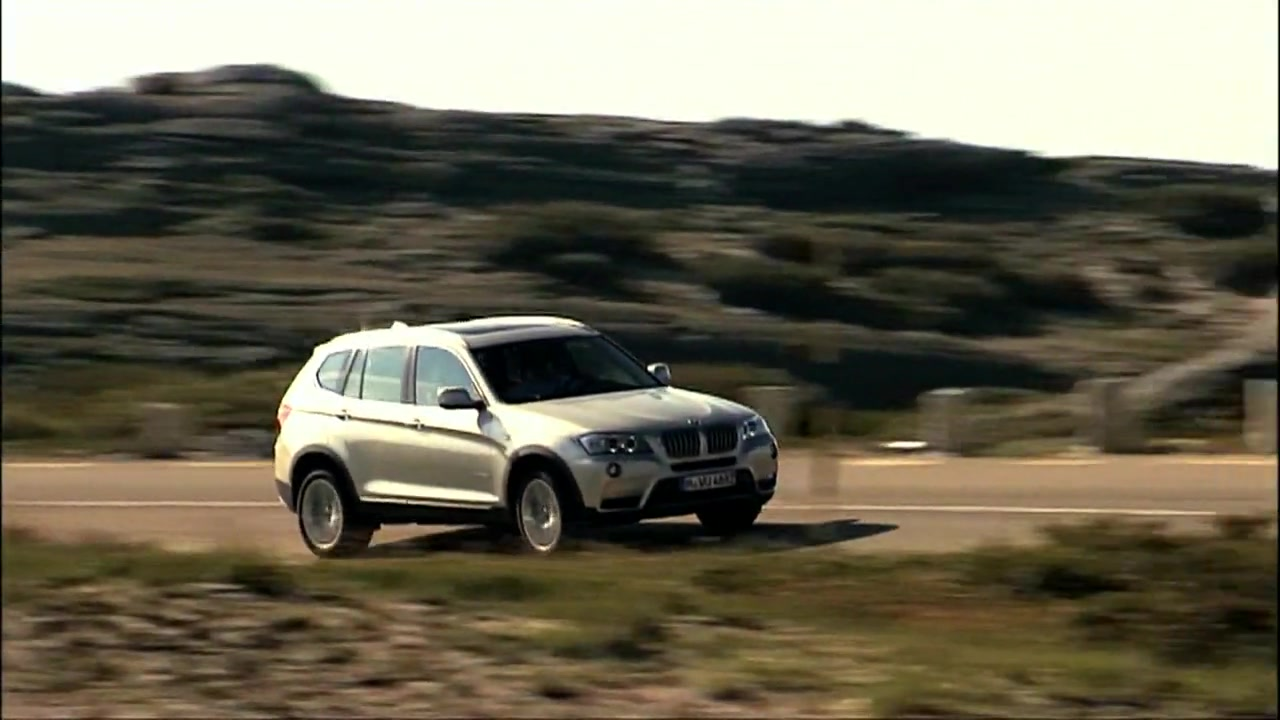car: (277, 313, 782, 558)
